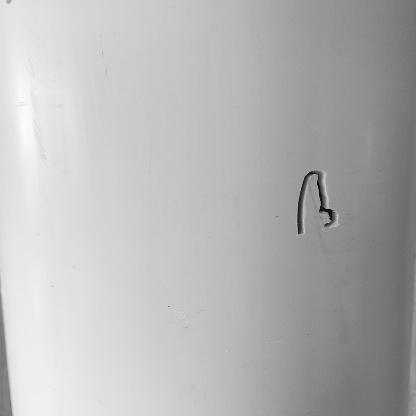fengxi: (292, 163, 341, 257)
